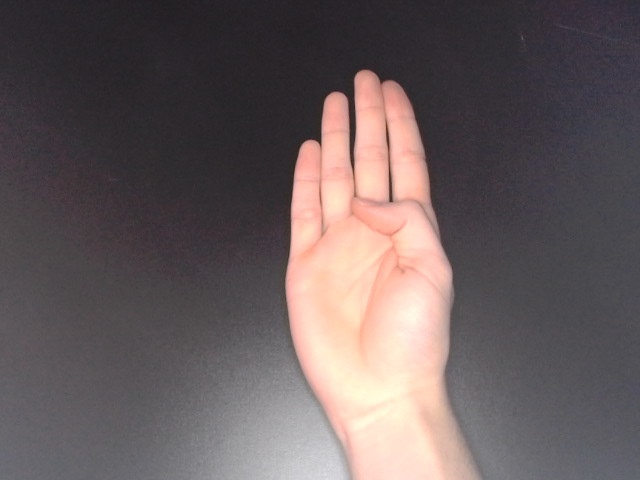b: (278, 66, 459, 430)
